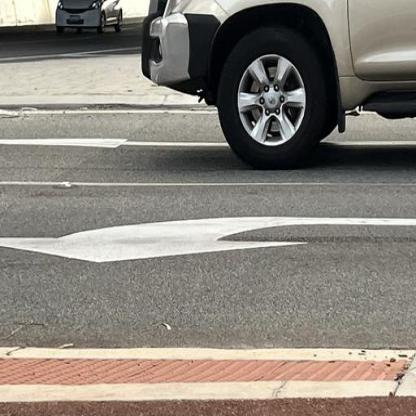Tire: (217, 26, 327, 169)
